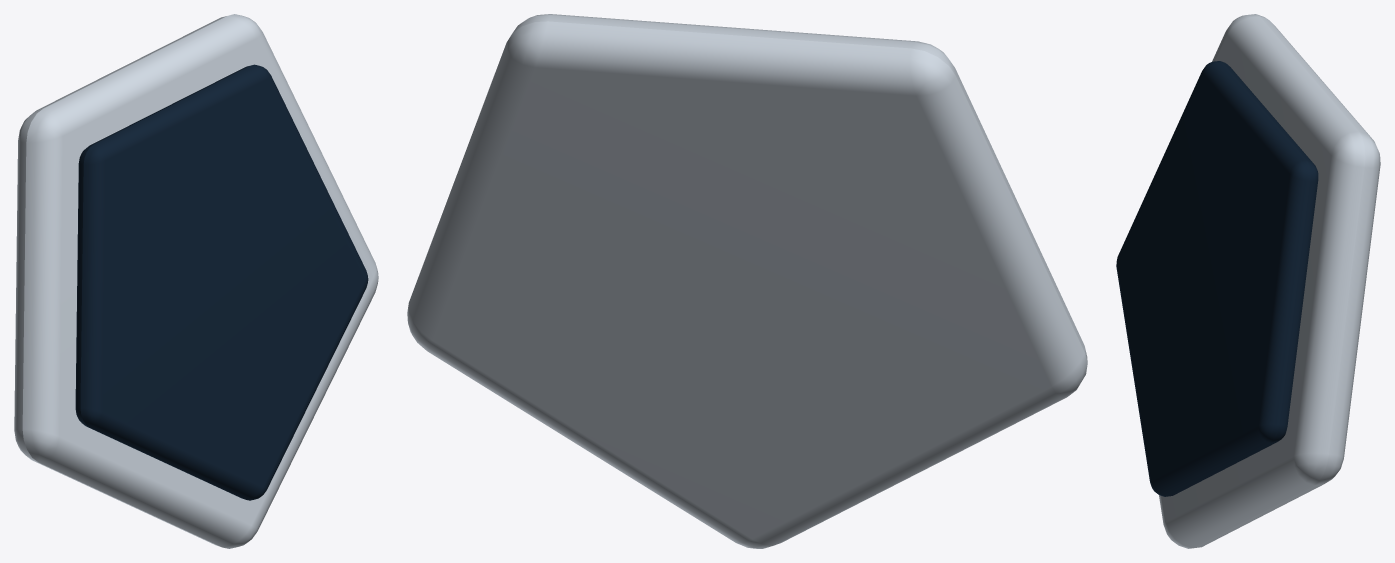
The model's file is badge-silver.glb.
3 renders of one model, left to right at view 1: azimuth 30°, elevation 25°; view 2: azimuth 150°, elevation 25°; view 3: azimuth 270°, elevation 25°, orthographic. The views are drawn at different scales.
Visible parts, largest first — view 1: Empty smooth face badge-silver, Rounded pentagon backing badge-silver; view 2: Rounded pentagon backing badge-silver; view 3: Empty smooth face badge-silver, Rounded pentagon backing badge-silver.
Boxes of the visible parts, x1,y1,x2,y2 form: Empty smooth face badge-silver: (75,64,368,500); Rounded pentagon backing badge-silver: (14,14,378,548); Rounded pentagon backing badge-silver: (407,14,1087,548); Empty smooth face badge-silver: (1116,61,1318,496); Rounded pentagon backing badge-silver: (1159,14,1380,548).
Size of the model in its own units: 4.26 by 4.16 by 2.2.
